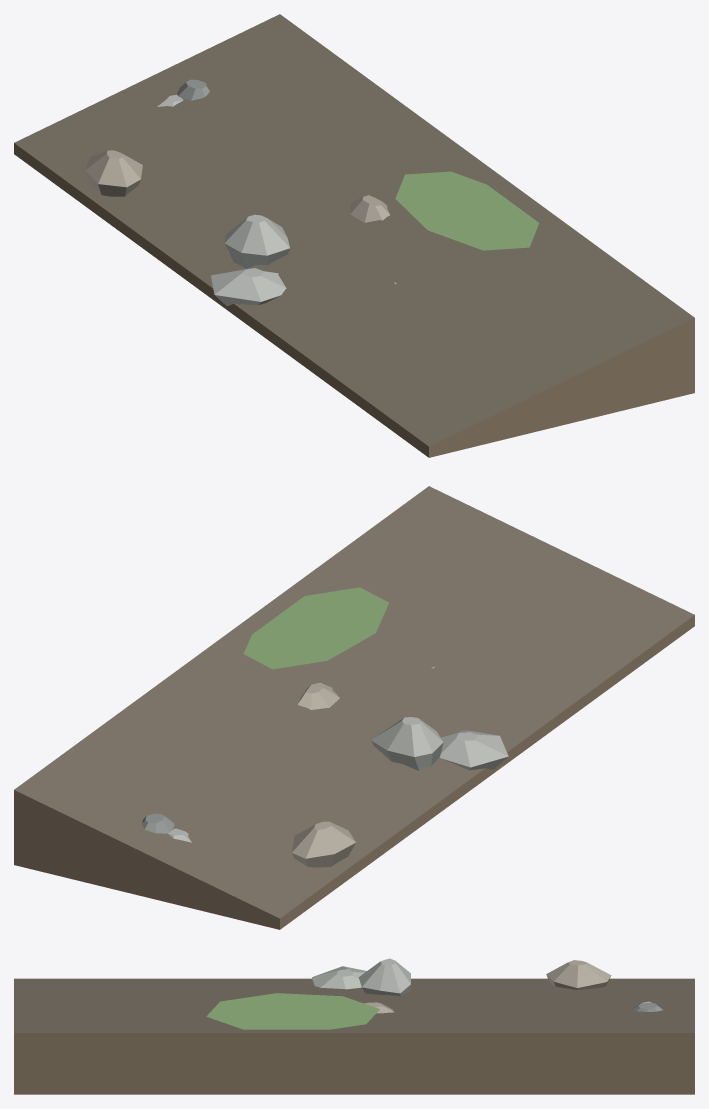
File: edge_river_bank_rocks_2m.glb
3 renders of one model, top to bottom at view 1: azimuth 30°, elevation 25°; view 2: azimuth 150°, elevation 25°; view 3: azimuth 270°, elevation 25°, orthographic. The views are drawn at different scales.
Visible parts, largest first — view 1: edge_river_bank_rocks_2m; view 2: edge_river_bank_rocks_2m; view 3: edge_river_bank_rocks_2m.
Boxes of the visible parts, box(x1,y1,x2,y2) form: edge_river_bank_rocks_2m: box(14, 14, 694, 457); edge_river_bank_rocks_2m: box(14, 486, 694, 929); edge_river_bank_rocks_2m: box(14, 958, 694, 1094).
Bounding box in the file's own units: 0.7796 × 0.2 × 2.
